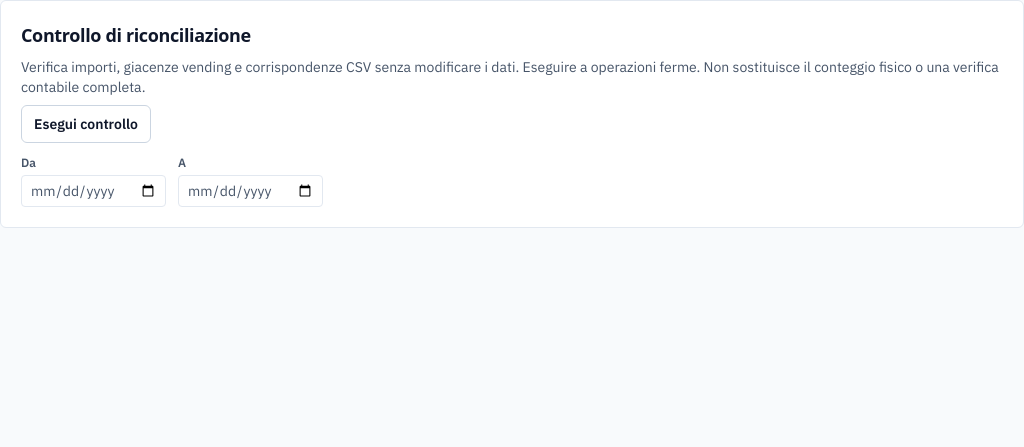
Test: avverte che nessun movimento nativo non significa saldo cassa certificato
This screenshot has width=1024, height=447.
Click the button "Esegui controllo".
click(86, 124)  # box [21,105,151,143]
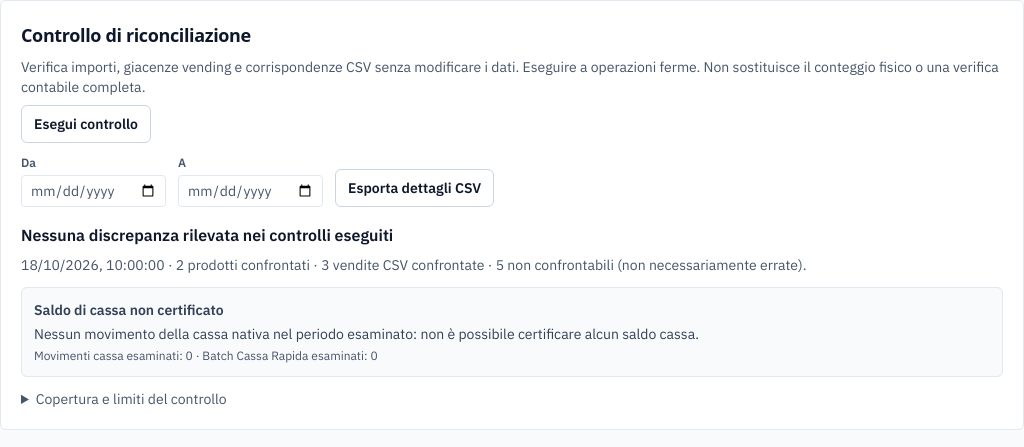
Expected: the element with test id "financial-coverage" shows "Saldo di cassa non certificato", [34,301,224,319]
Expected: the element with test id "financial-coverage" shows "Movimenti cassa esaminati: 0", [21,287,1003,377]
Expected: the element with test id "financial-coverage" shows "Batch Cassa Rapida esaminati: 0", [193,348,378,363]
